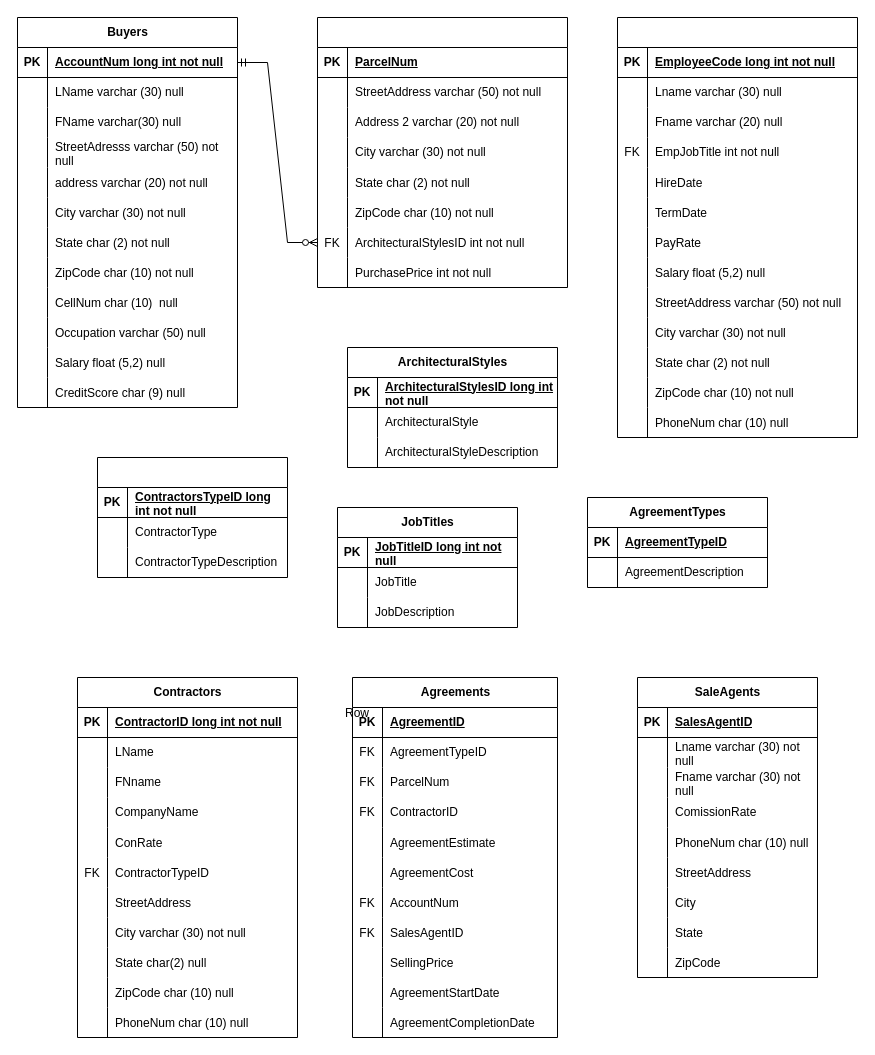
Some shapes in this 875 by 1055 pixel diagram are drawn without their labels. The box of each missing label's shape, as (x1, y1, x2, y2) in pixels:
ContactorTypes: (96, 456, 288, 578)
Employees: (616, 16, 858, 438)
Properties: (316, 16, 568, 288)
